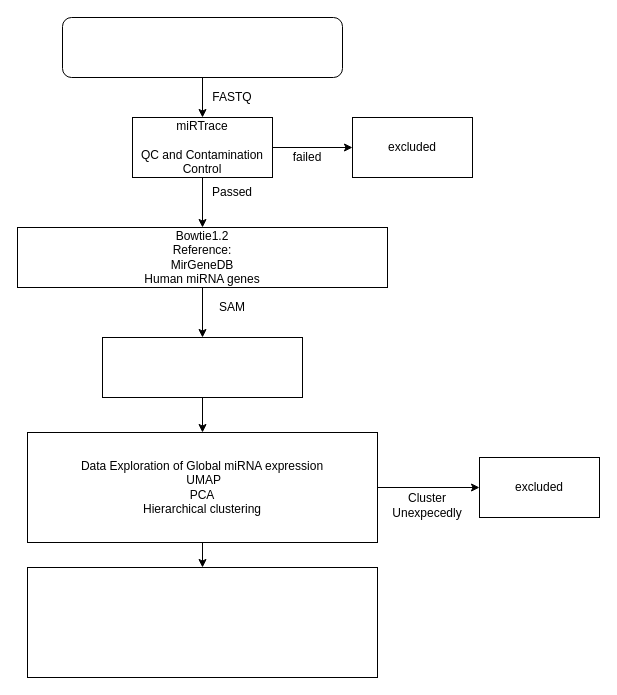
Some shapes in this 617 by 695 pixel diagram are drawn without their labels. The centre of each missing label's shape, as x and y in pixels:
Combine own and public smallRNA-seq datasets: the point at 202,47
Count miRNA with featureCounts summarizeOverlaps() function: the point at 202,367
DESeq2 Differential Expression: the point at 202,622
